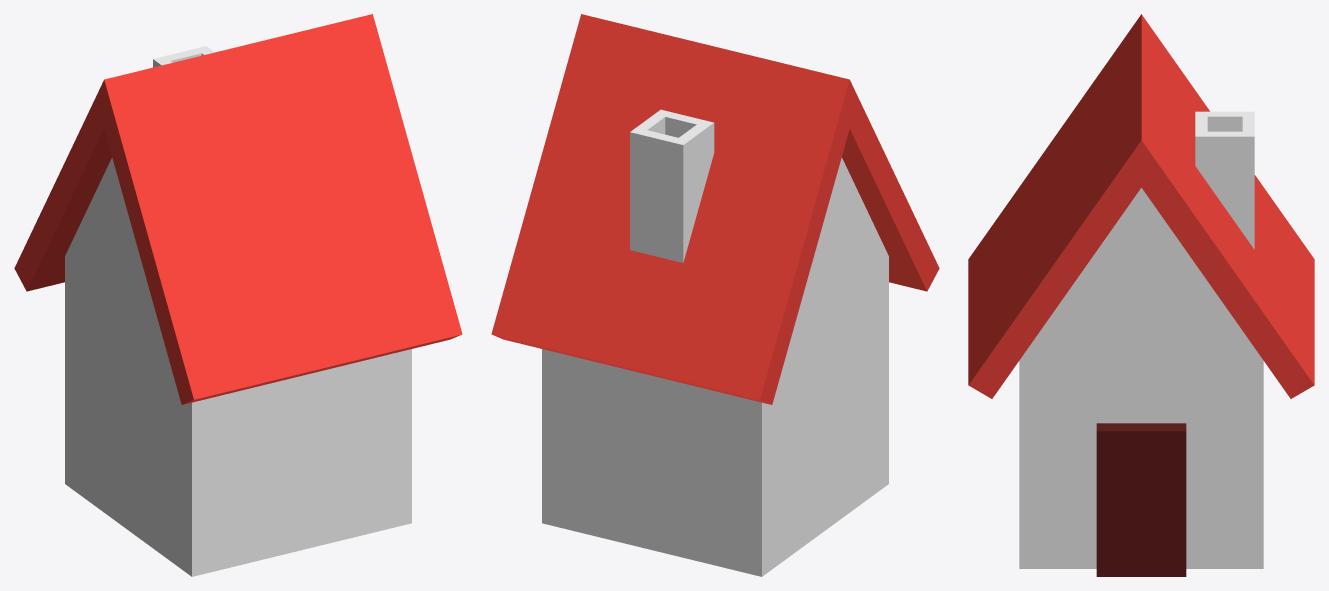
The model's file is House_red.glb.
3 renders of one model, left to right at view 1: azimuth 30°, elevation 25°; view 2: azimuth 150°, elevation 25°; view 3: azimuth 270°, elevation 25°, orthographic. The views are drawn at different scales.
Visible parts, largest first — view 1: Cube.006; view 2: Cube.006; view 3: Cube.006.
Boxes of the visible parts, x1,y1,x2,y2 form: Cube.006: (14,14,462,576); Cube.006: (491,14,939,576); Cube.006: (968,14,1314,576).
Bounding box in the file's own units: 1.92 × 3.12 × 2.23.
